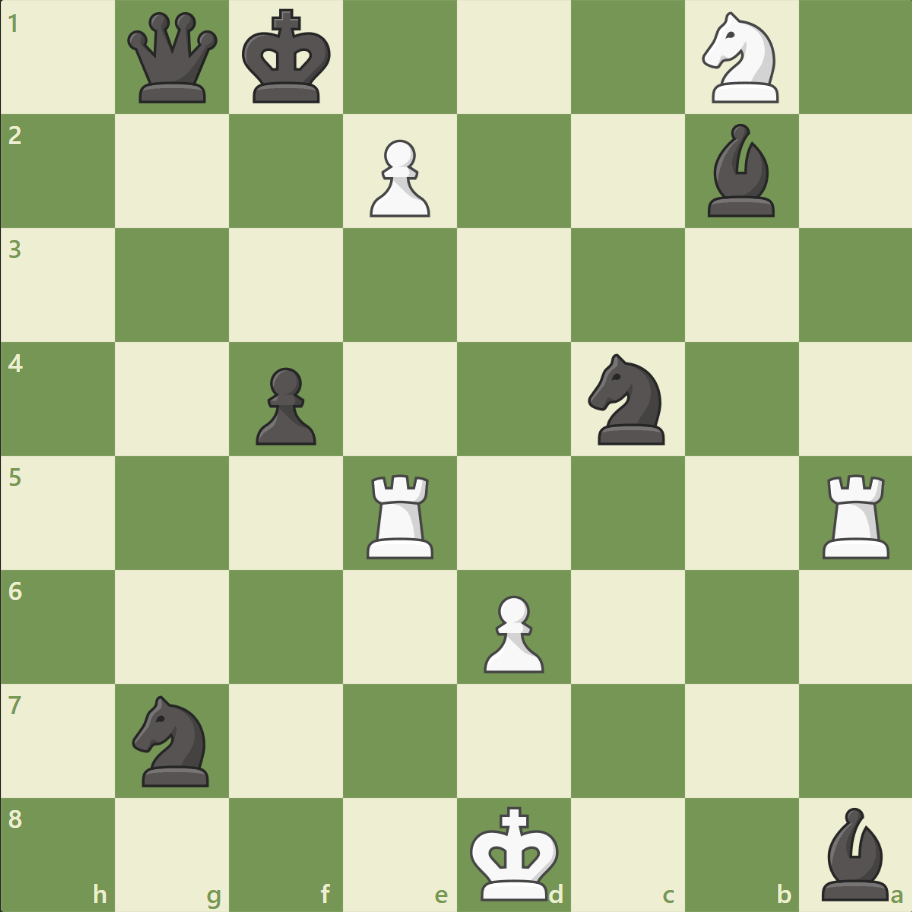K: (465, 798, 565, 906)
N: (692, 7, 789, 110)
P: (474, 586, 549, 677), (361, 132, 435, 223)
R: (814, 466, 897, 563), (360, 466, 442, 563)
b: (812, 801, 896, 904), (698, 120, 782, 222)
k: (238, 4, 338, 112)
n: (124, 688, 222, 791), (579, 348, 676, 450)
p: (247, 359, 322, 450)
q: (124, 9, 223, 108)
